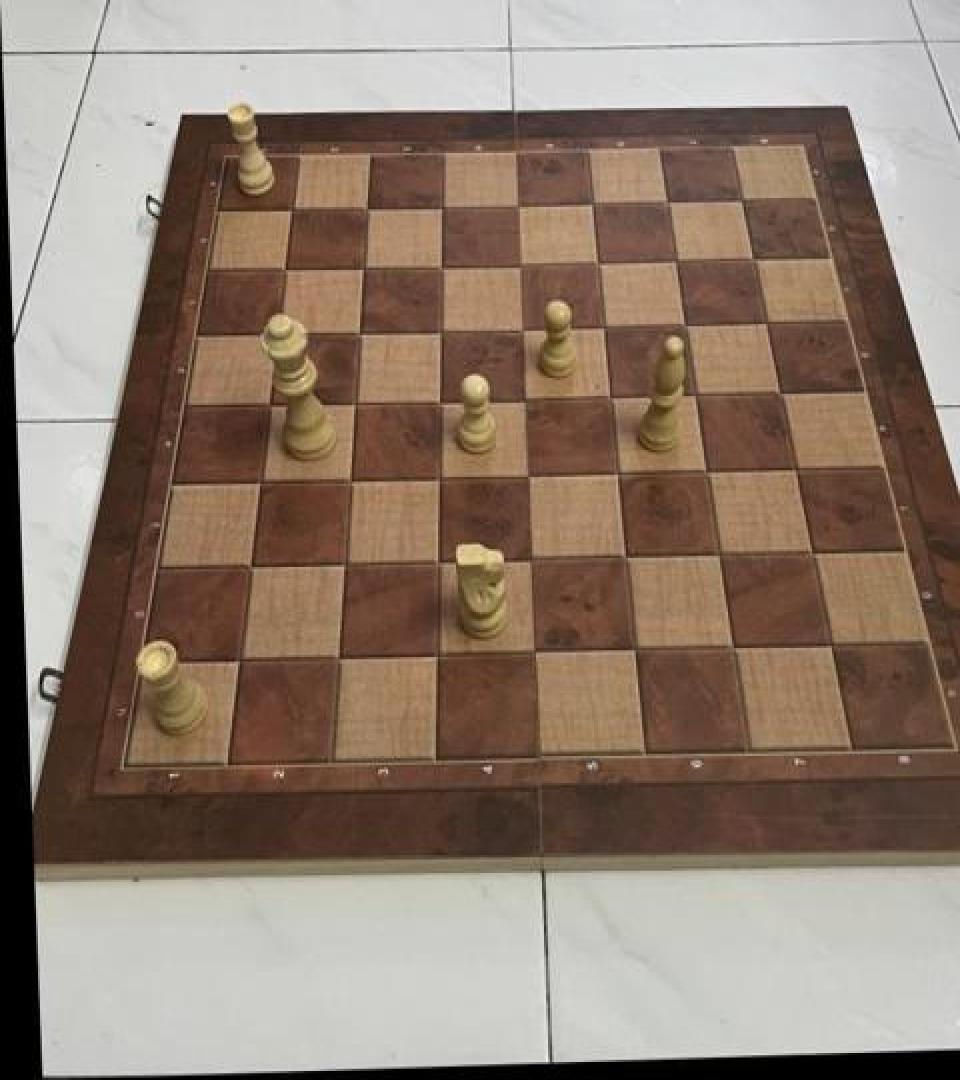xcorner: (726, 182, 760, 221), (601, 454, 635, 493), (242, 462, 276, 501), (814, 625, 848, 664), (651, 184, 685, 222), (575, 184, 609, 222), (500, 187, 534, 225), (424, 188, 458, 226), (348, 189, 382, 227), (272, 190, 306, 228), (738, 242, 772, 280), (660, 243, 694, 281), (581, 244, 615, 282), (502, 246, 536, 284), (423, 248, 457, 286), (344, 249, 378, 287), (265, 251, 299, 289), (751, 305, 785, 343), (669, 307, 703, 345), (587, 308, 621, 346), (505, 310, 539, 348), (423, 312, 457, 350), (341, 314, 375, 352), (258, 315, 292, 353), (765, 375, 799, 413), (679, 377, 713, 415), (594, 378, 628, 416), (508, 380, 542, 418), (423, 382, 457, 420), (337, 384, 371, 422), (251, 386, 285, 424), (780, 451, 814, 489), (691, 454, 725, 492), (512, 457, 546, 495), (422, 459, 456, 497), (332, 460, 366, 498), (796, 534, 830, 572), (703, 537, 737, 575), (609, 539, 643, 577), (515, 540, 549, 578), (421, 542, 455, 580), (327, 544, 361, 582), (233, 547, 267, 585), (716, 628, 750, 666), (618, 630, 652, 668), (520, 632, 554, 670), (421, 636, 455, 674), (322, 638, 356, 676), (223, 640, 257, 678)
